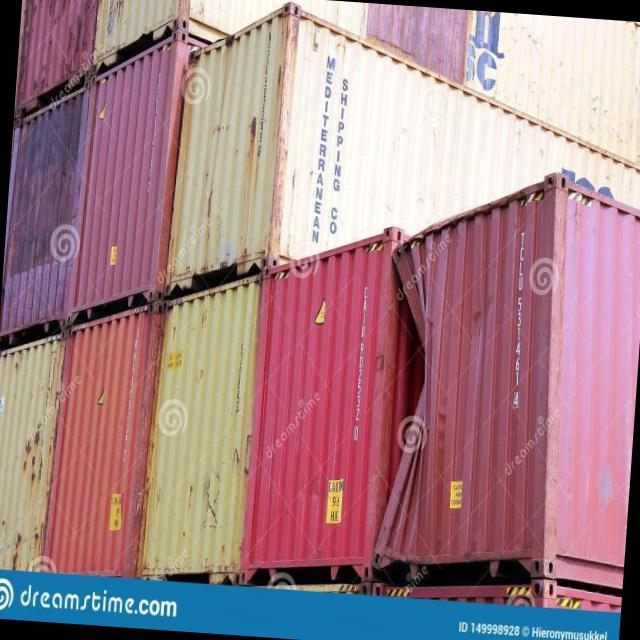Deframe_or_Dent: (344, 215, 458, 595)
